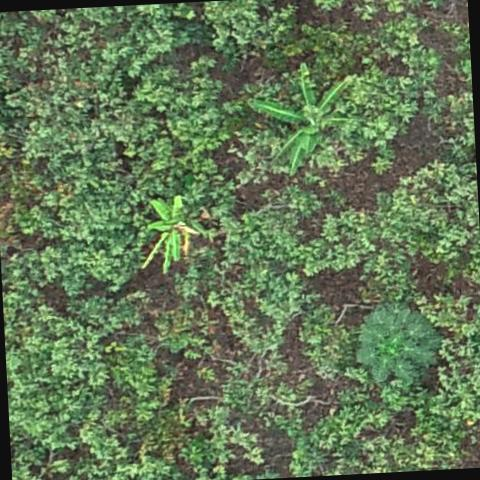Banana-plant: (245, 59, 374, 178), (138, 193, 208, 275)
